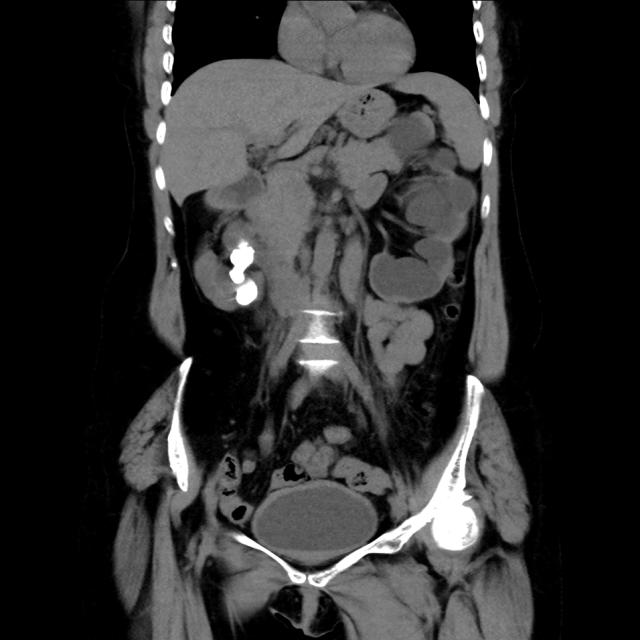kidneystone: (229, 241, 255, 283), (236, 279, 259, 306)
